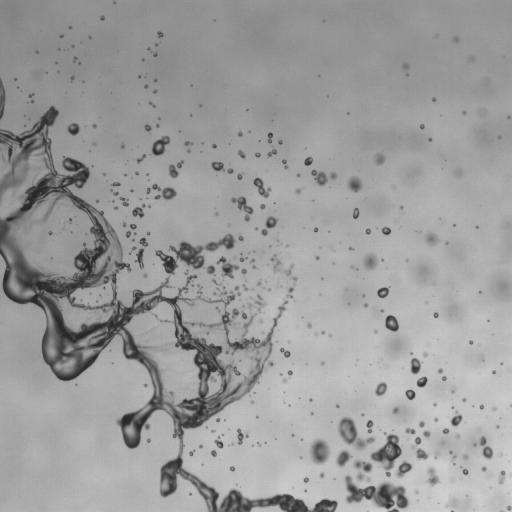droplet: (370, 433, 401, 476), (338, 416, 375, 450), (310, 439, 330, 464), (217, 256, 239, 278), (353, 459, 372, 481), (152, 136, 169, 155), (396, 460, 411, 478), (168, 161, 183, 178), (336, 450, 351, 467), (311, 170, 327, 185), (270, 254, 283, 272), (284, 264, 297, 282), (427, 467, 439, 486), (347, 177, 362, 192), (363, 253, 377, 269), (385, 315, 398, 331), (374, 381, 387, 395), (450, 411, 462, 426), (410, 358, 421, 374), (132, 204, 145, 217), (425, 232, 438, 245), (237, 429, 248, 444), (67, 123, 79, 135), (377, 287, 389, 298), (211, 161, 224, 171), (416, 376, 427, 387), (214, 435, 223, 448), (375, 153, 385, 164), (205, 265, 215, 275), (405, 389, 415, 399), (498, 470, 505, 484), (366, 420, 373, 433), (280, 348, 290, 357), (304, 157, 313, 165), (120, 197, 128, 206), (405, 427, 415, 434), (381, 227, 390, 234), (353, 208, 359, 218), (238, 150, 245, 158), (144, 124, 151, 131), (330, 172, 337, 179), (423, 430, 430, 437), (462, 468, 468, 474), (455, 170, 462, 175), (184, 141, 192, 145), (157, 32, 163, 37), (227, 168, 233, 173), (237, 173, 242, 179), (130, 224, 136, 229), (365, 228, 370, 234), (241, 268, 246, 274), (242, 284, 247, 290), (451, 387, 456, 393), (393, 407, 398, 413), (419, 421, 424, 427), (442, 428, 448, 433), (211, 450, 216, 456), (403, 64, 408, 69), (295, 188, 300, 193), (260, 204, 265, 209), (433, 312, 438, 317), (189, 450, 194, 455), (229, 466, 234, 471), (481, 466, 486, 471), (126, 231, 130, 237), (307, 322, 311, 328), (288, 370, 292, 376), (282, 378, 288, 382), (434, 452, 438, 458), (453, 37, 458, 41), (149, 102, 154, 106), (238, 131, 242, 136), (255, 153, 260, 157), (238, 236, 243, 240), (240, 257, 245, 261), (257, 280, 261, 285), (423, 352, 427, 357), (438, 368, 442, 373), (320, 472, 324, 477), (304, 477, 308, 482), (507, 506, 511, 511), (100, 16, 104, 20), (420, 124, 424, 128), (278, 140, 282, 144), (212, 144, 216, 148), (68, 218, 72, 222), (469, 340, 473, 344), (442, 376, 446, 380), (479, 405, 483, 409), (463, 455, 467, 459), (123, 222, 126, 227), (71, 76, 74, 80), (29, 94, 33, 97), (113, 192, 117, 195), (48, 231, 52, 234), (132, 246, 135, 250), (364, 303, 367, 307), (216, 307, 219, 311), (462, 398, 466, 401), (434, 418, 438, 421), (153, 53, 156, 56), (144, 85, 147, 88), (153, 90, 156, 93), (432, 98, 435, 101), (93, 124, 96, 127), (121, 145, 124, 148), (135, 171, 138, 174), (297, 174, 300, 177), (114, 206, 117, 209), (314, 228, 317, 231), (349, 247, 352, 250), (144, 274, 147, 277), (213, 292, 216, 295), (493, 407, 496, 410), (211, 429, 214, 432), (456, 434, 459, 437), (147, 439, 150, 442), (199, 445, 202, 448), (74, 57, 76, 61), (463, 111, 465, 114), (400, 206, 403, 208), (255, 227, 257, 230), (147, 232, 149, 235), (316, 256, 318, 259), (259, 320, 262, 322), (321, 362, 324, 364), (492, 371, 495, 373), (433, 403, 436, 405), (216, 419, 219, 421), (257, 443, 260, 445), (449, 451, 452, 453), (60, 35, 62, 37), (88, 36, 90, 38), (471, 58, 473, 60), (154, 79, 156, 81), (508, 116, 510, 118), (187, 150, 189, 152), (62, 227, 64, 229), (87, 318, 89, 320), (374, 330, 376, 332), (322, 332, 324, 334), (328, 334, 330, 336), (144, 384, 146, 386)
ligament: (0, 108, 335, 511), (344, 475, 409, 511), (231, 196, 253, 221), (146, 184, 176, 199), (411, 437, 429, 460), (135, 237, 147, 268), (253, 178, 271, 197), (261, 216, 277, 235), (480, 436, 493, 459), (0, 78, 5, 118), (267, 149, 276, 157), (212, 278, 220, 287), (446, 499, 456, 506), (137, 155, 145, 162), (250, 259, 256, 268), (268, 132, 272, 142), (282, 160, 287, 168), (451, 455, 455, 464), (111, 182, 119, 186)
